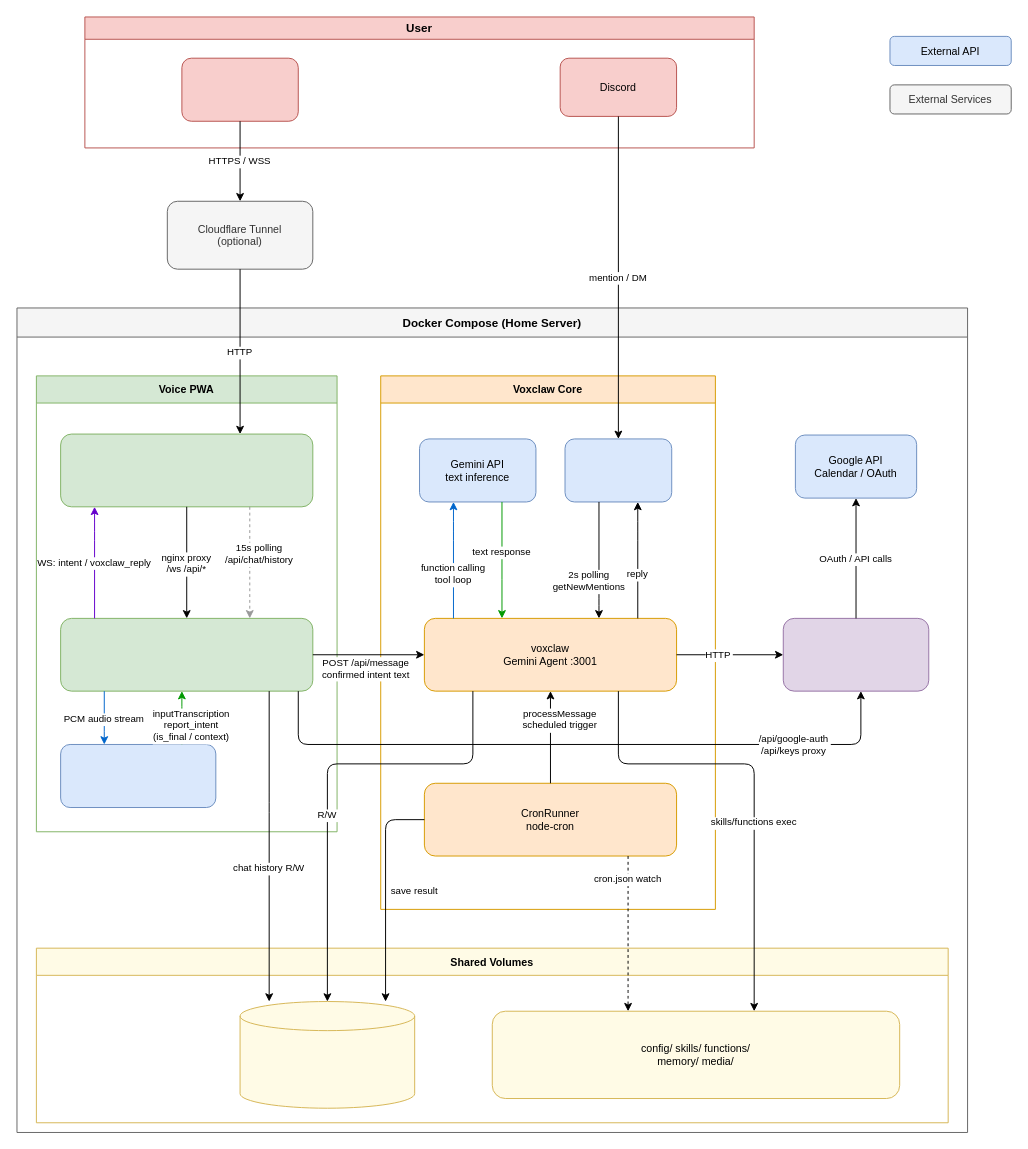
The diagram is 1028 pixels wide and 1149 high, and some of its shapes have lost their labels. The centre of each missing label's shape, as x and y in pixels:
Discord API: (618,470)
Gemini Live API audio → intent: (138,776)
keybinder Node.js :3001: (855,654)
Phone / Browser (PWA): (239,89)
SQLite DB messages / tasks: (327,1054)
voice-pwa-backend Node.js / WebSocket :8080: (186,654)
voice-pwa-frontend nginx :3000: (186,470)
